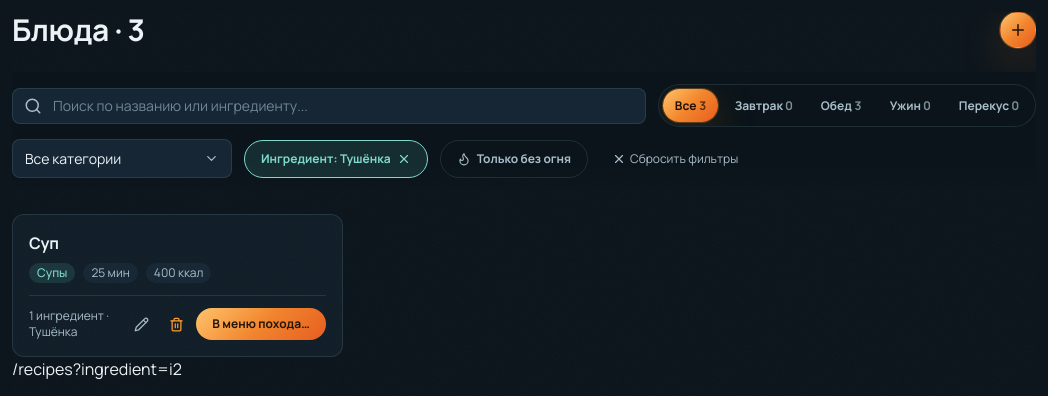
Scenario: RecipesPage — ?ingredient= (navigation-п.6) › «Сбросить фильтры» тоже снимает ингредиент-фильтр
Expected: the heading "Суп" is shown, [29,232,59,254]
Expected: the text "Каша" is not shown
Click the button with test id "recipes-reset": x=675, y=158 [600,142,750,174]
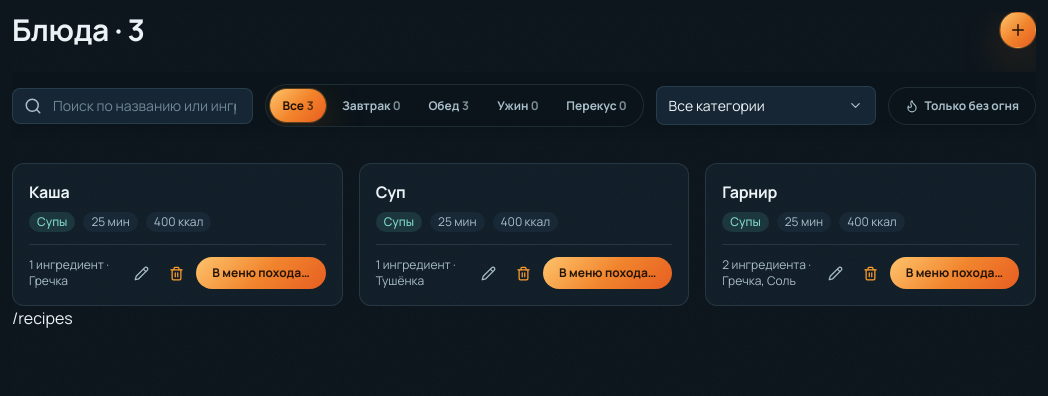
Expected: the heading "Каша" is shown, [29,181,70,203]
Expected: the text with test id "loc" no longer shows "ingredient="
